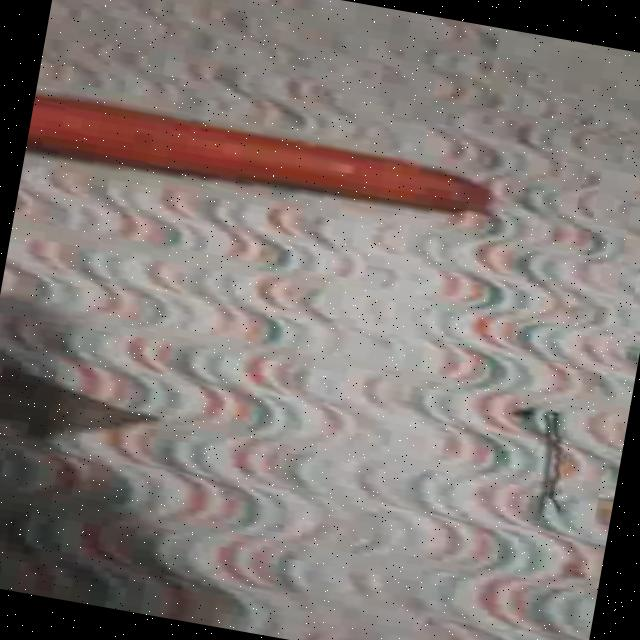carrot: (26, 95, 489, 211)
